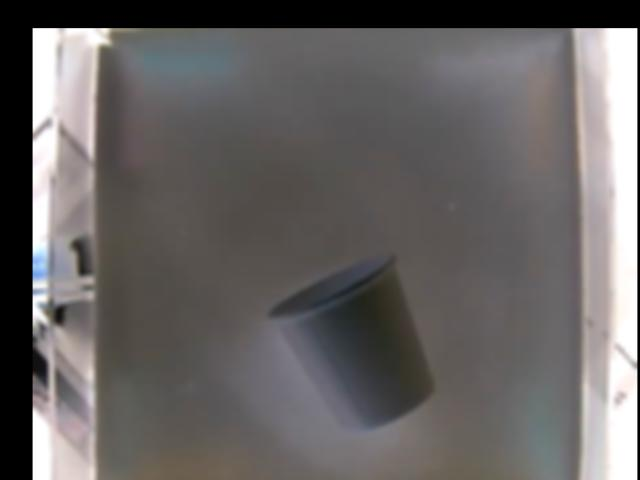Cup: (264, 254, 437, 431)
